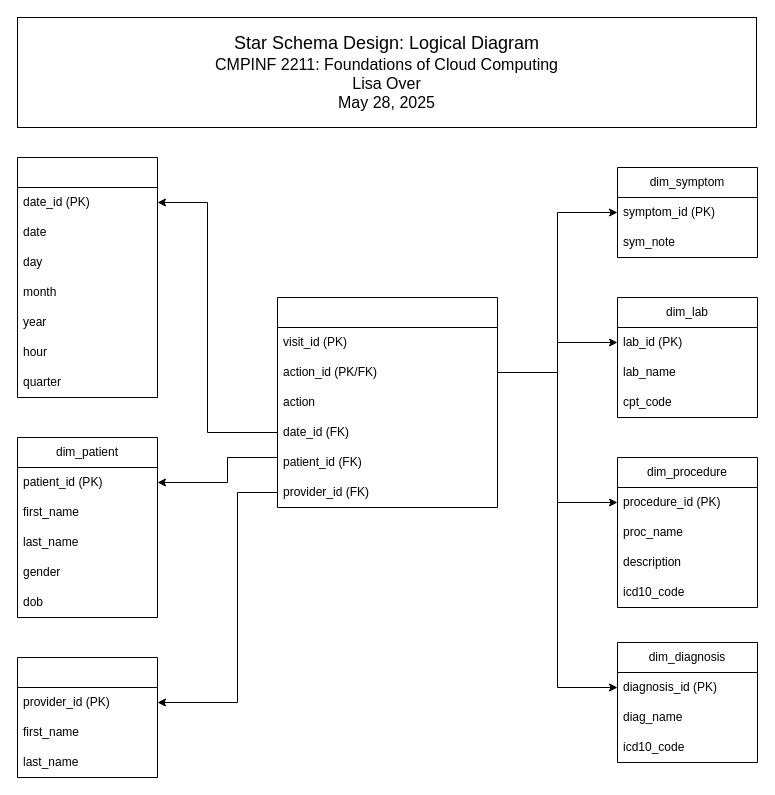
The diagram is 775 pixels wide and 795 high, and some of its shapes have lost their labels. Each missing label, with the box of its shape:
dim_provider: (16, 656, 158, 778)
dim_time: (16, 156, 158, 398)
fact_visit_history: (276, 296, 498, 508)
